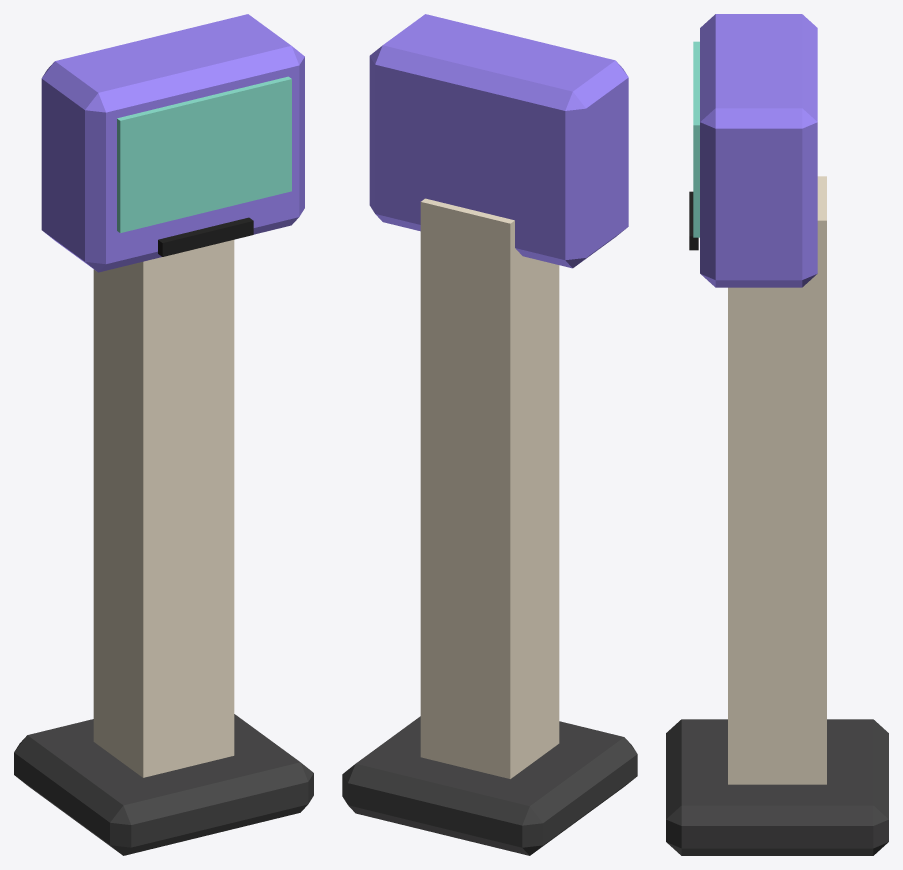
3 renders of one model, left to right at view 1: azimuth 30°, elevation 25°; view 2: azimuth 150°, elevation 25°; view 3: azimuth 270°, elevation 25°, orthographic.
Parts seen in each view (by area): view 1: Pedestal, Display housing, Base, Touch screen, Ticket slot; view 2: Pedestal, Display housing, Base; view 3: Pedestal, Display housing, Base, Touch screen.
Boxes of the visible parts, box(x1,y1,x2,y2) form: Pedestal: box(93, 240, 234, 777); Display housing: box(41, 14, 304, 272); Base: box(14, 714, 313, 855); Touch screen: box(117, 76, 291, 232); Ticket slot: box(158, 217, 253, 256); Pedestal: box(420, 198, 559, 778); Display housing: box(369, 14, 628, 268); Base: box(342, 716, 637, 855); Pedestal: box(728, 176, 826, 784); Display housing: box(700, 14, 817, 287); Base: box(666, 719, 888, 855); Touch screen: box(693, 41, 699, 237).
Size of the model in its own units: 41 by 134 by 36.
